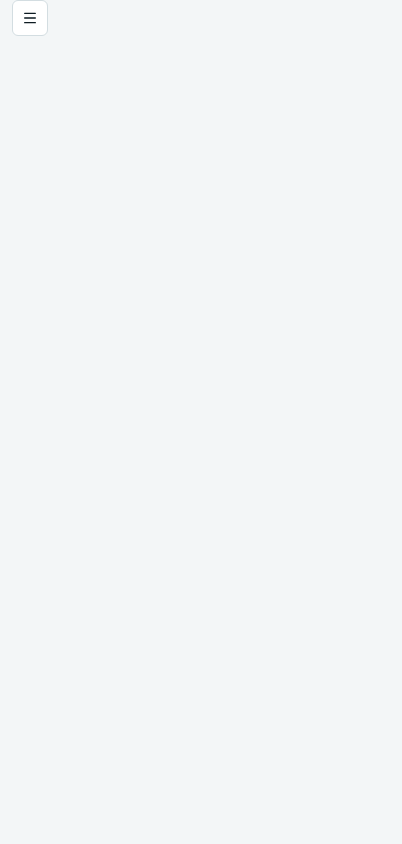
it: MobileMenu › opens the section links and closes on Escape or when one is chosen
Click the button named "Open menu" at (30, 18), box [12,0,48,36]
(page scrolled)
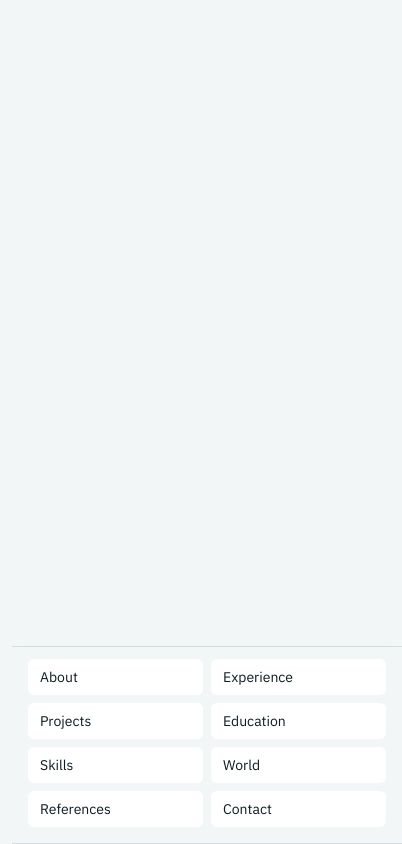
Press Escape
(page scrolled)
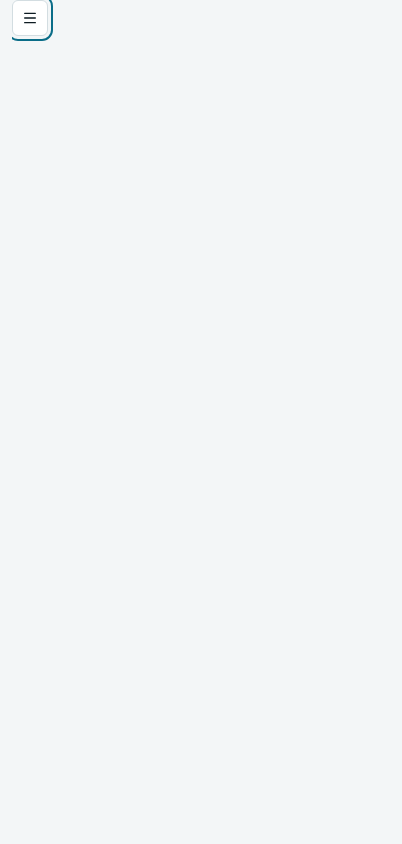
Expected: the button named "Open menu" is collapsed
Click the button named "Open menu" at (30, 18), box [12,0,48,36]
(page scrolled)
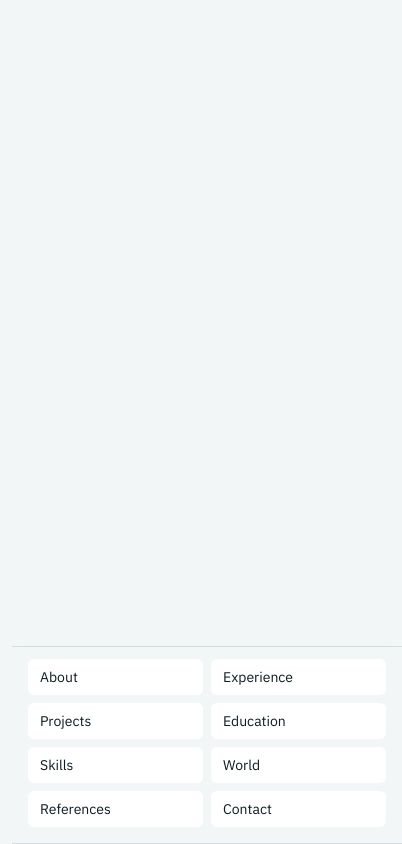
Click the link "Projects" at (116, 721), box [28,703,203,739]
(page scrolled)
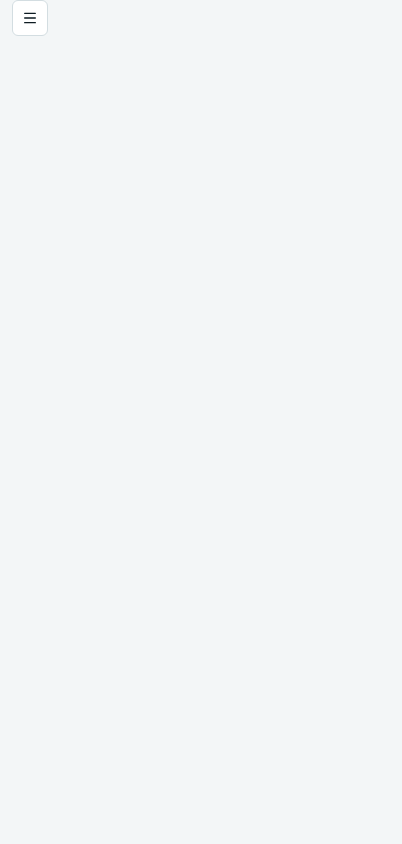
Expected: the button named "Open menu" is collapsed, [12,0,48,36]
